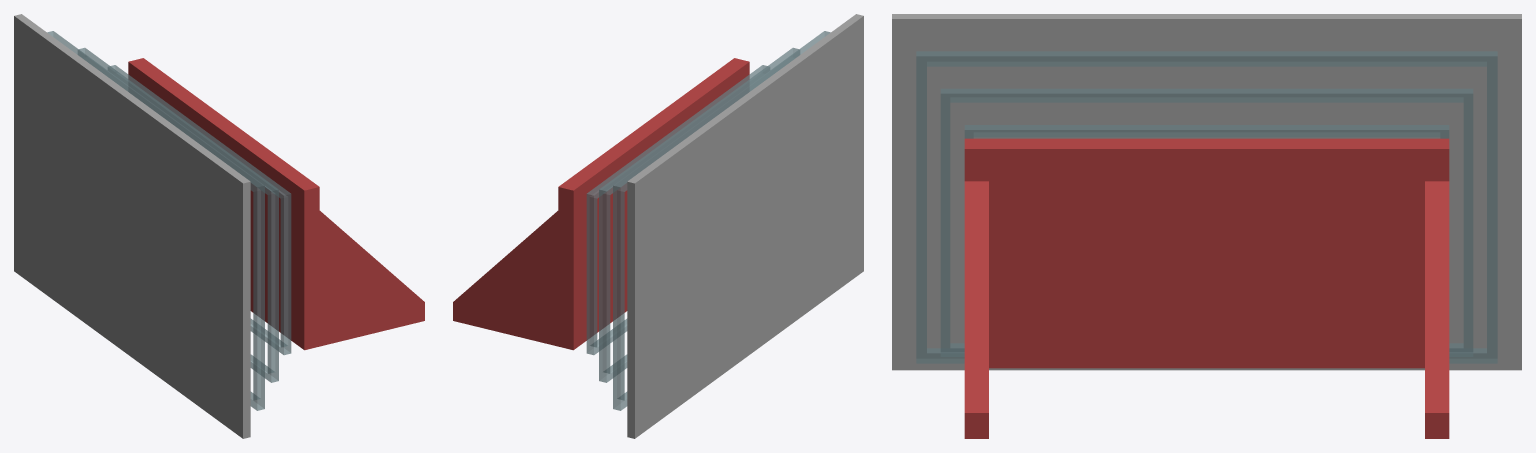
Rendered from BillBoard.fbx.
3 views of the same model, side by side, from view 1: azimuth 30°, elevation 25°; view 2: azimuth 150°, elevation 25°; view 3: azimuth 270°, elevation 25° (orthographic). The views are drawn at different scales.
Visible parts, largest first — view 1: pCube1002; view 2: pCube1002; view 3: pCube1002.
Part boxes in pixels (left/top/right/bottom): pCube1002: left=14, top=14, right=424, bottom=438; pCube1002: left=453, top=14, right=863, bottom=438; pCube1002: left=892, top=14, right=1521, bottom=438.
Bounding box in the file's own units: 6.82 × 8 × 13.
